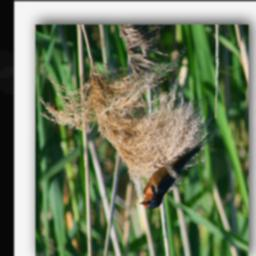Swallow: (136, 138, 209, 212)
